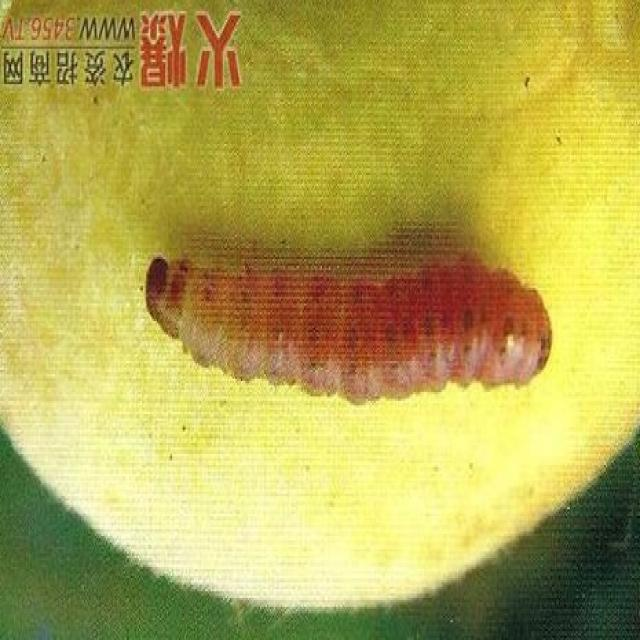peach borer: (143, 228, 553, 407)
